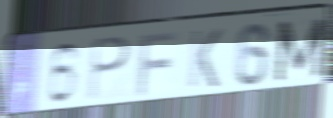6: (233, 20, 272, 88), (48, 40, 79, 105)
F: (135, 29, 181, 98)
K: (186, 26, 225, 90)
M: (272, 15, 328, 84)
P: (87, 35, 133, 104)
